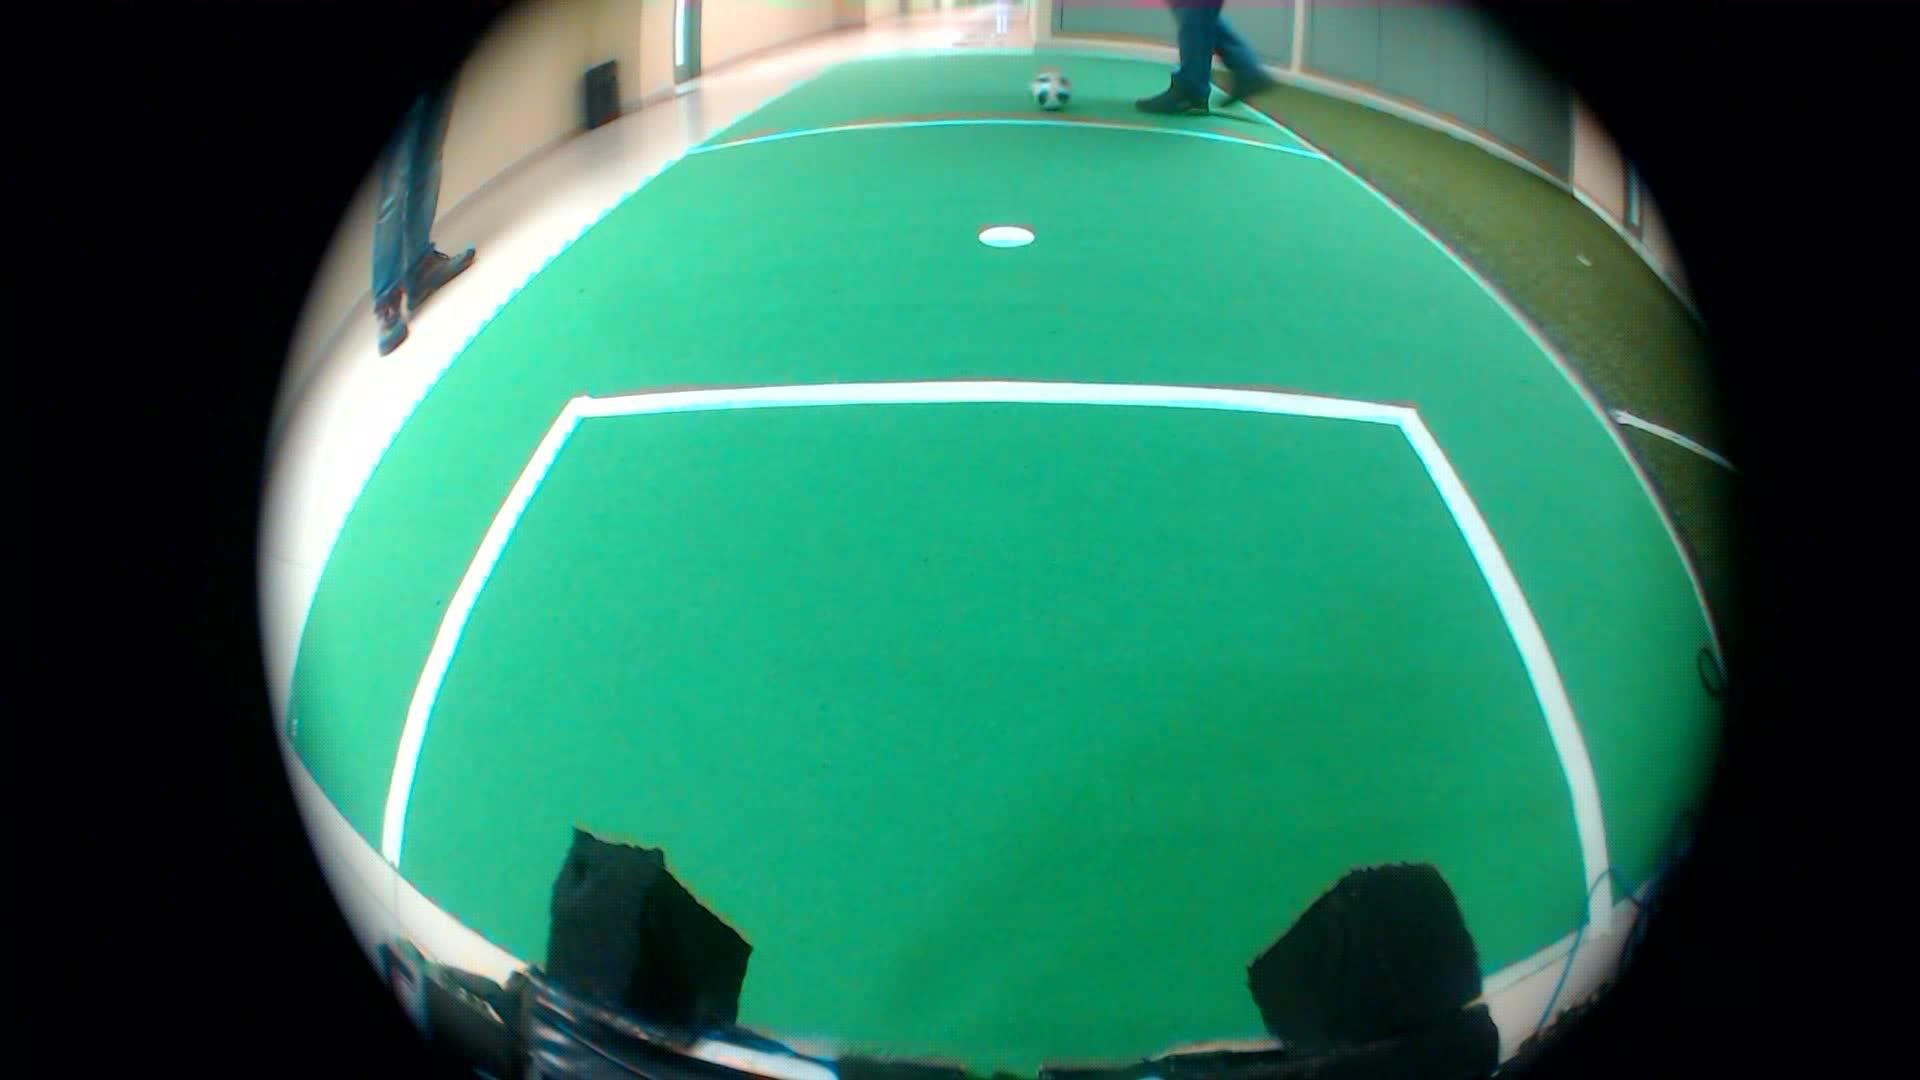ball: (1018, 61, 1071, 124)
